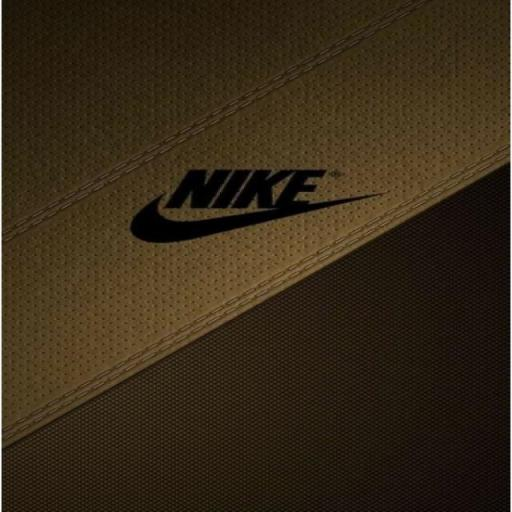Nike: (122, 192, 387, 248), (161, 168, 325, 214)
